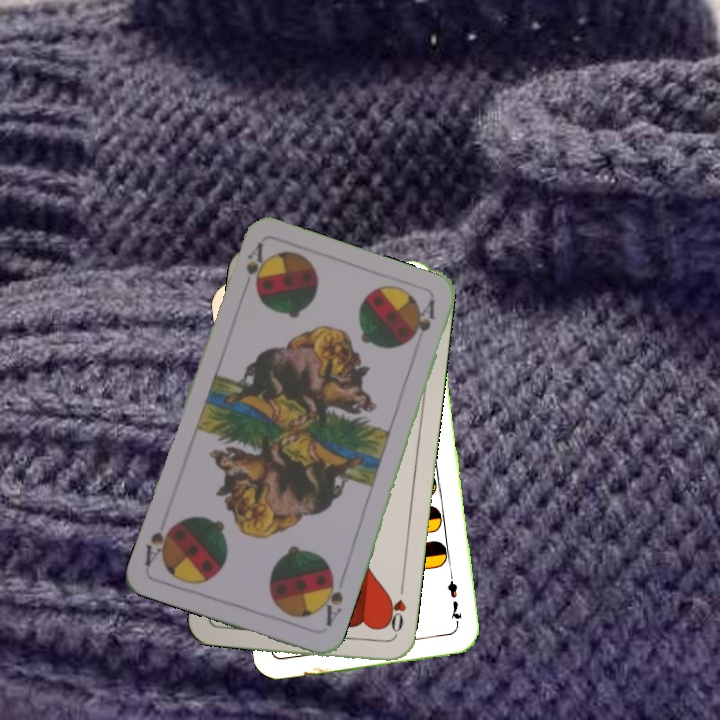E7: (443, 573, 465, 632)
HO: (381, 581, 409, 640)
SA: (238, 238, 270, 297), (316, 571, 346, 629)
